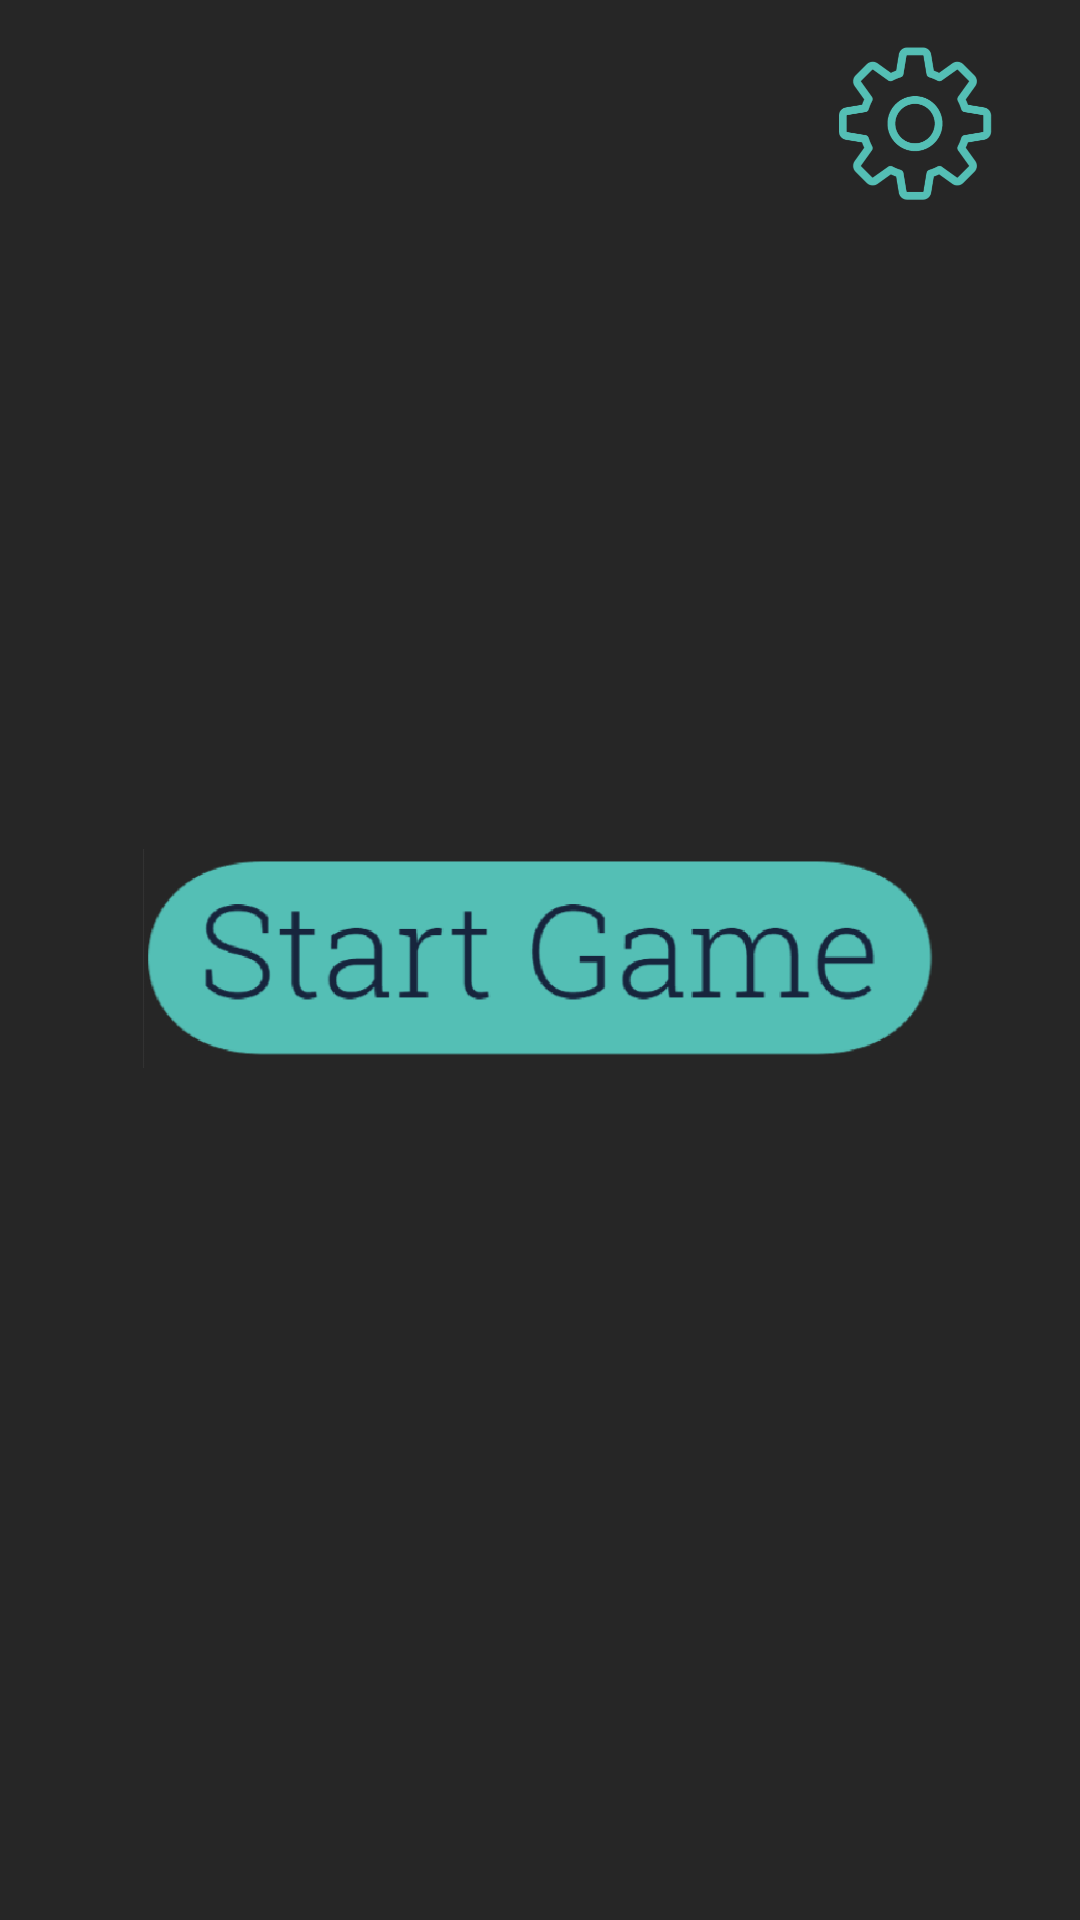

Named icons in this screenshot (1080 × 1920) and their centers, point (x, y):
settings: point (915, 123)
